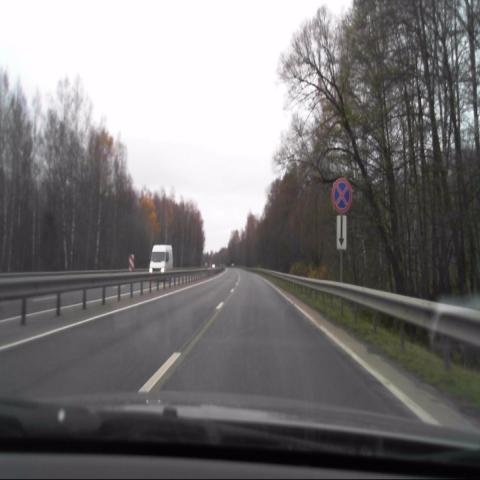3_27: (331, 177, 352, 214)
8_2_3: (336, 215, 346, 252)
